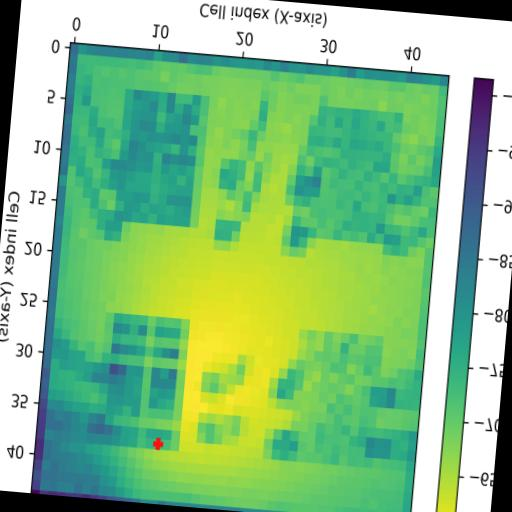Concrete: (288, 330, 386, 470)
Glass: (94, 313, 190, 452)
Metal: (300, 104, 406, 246)
Wood: (114, 90, 210, 228)
